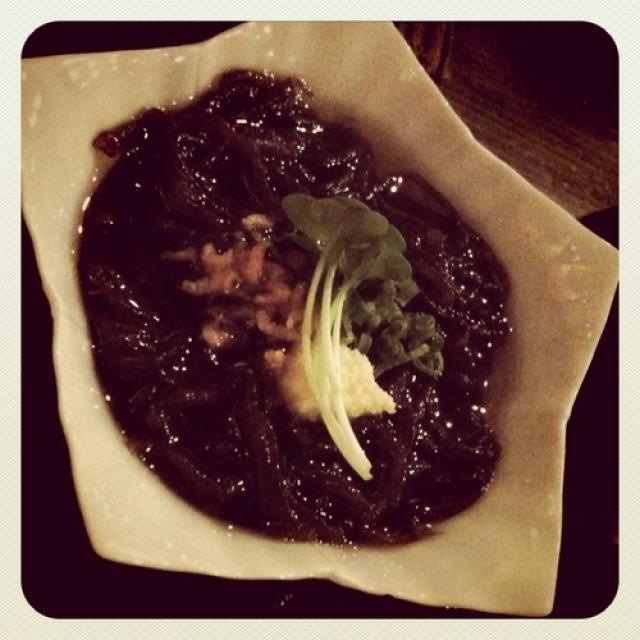蔬菜料理: (50, 64, 557, 594)
